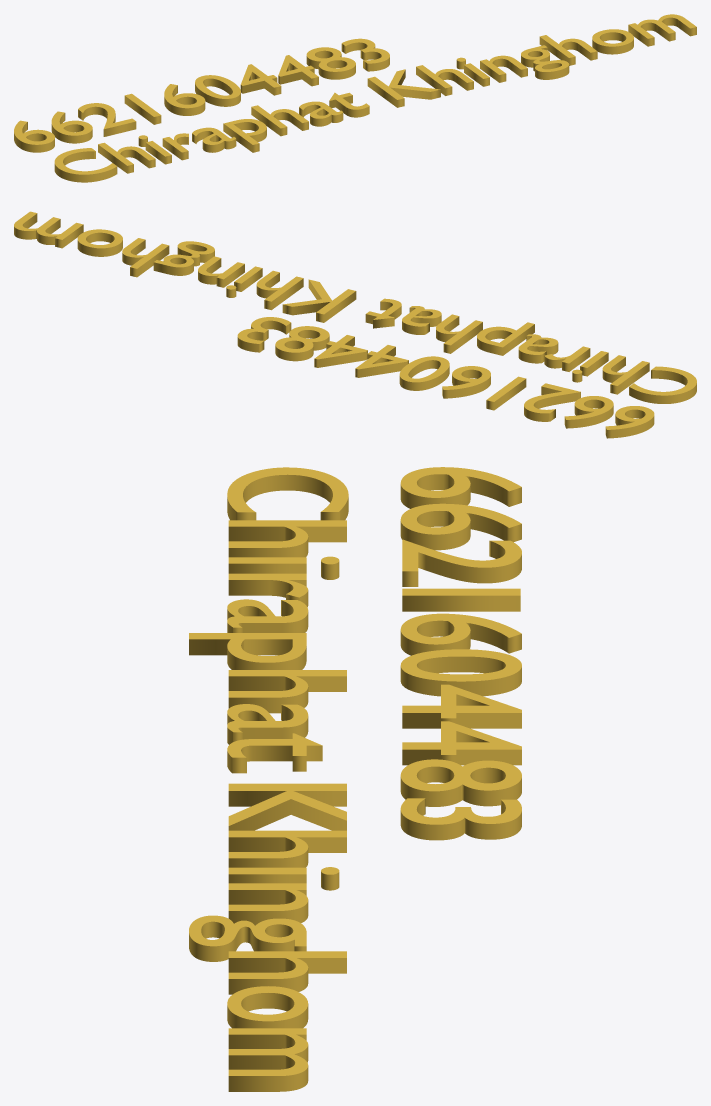
The model's file is name.glb.
3 renders of one model, top to bottom at view 1: azimuth 30°, elevation 25°; view 2: azimuth 150°, elevation 25°; view 3: azimuth 270°, elevation 25°, orthographic. The views are drawn at different scales.
Parts seen in each view (by area): view 1: Text; view 2: Text; view 3: Text.
Part boxes in pixels (bbox=[...]): Text: bbox=[14, 14, 696, 182]; Text: bbox=[14, 211, 696, 438]; Text: bbox=[189, 467, 521, 1091].
Bounding box in the file's own units: 8.31 × 0.1 × 1.92.
